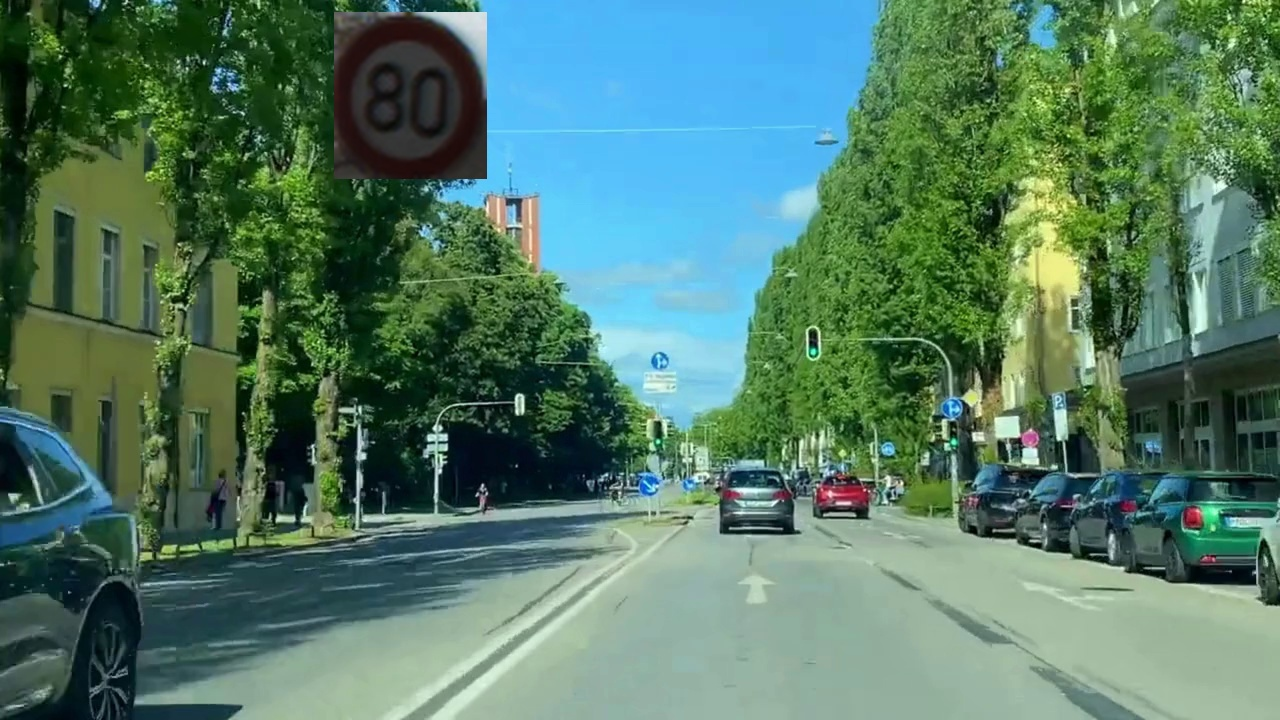Speed 80: (334, 12, 487, 179)
